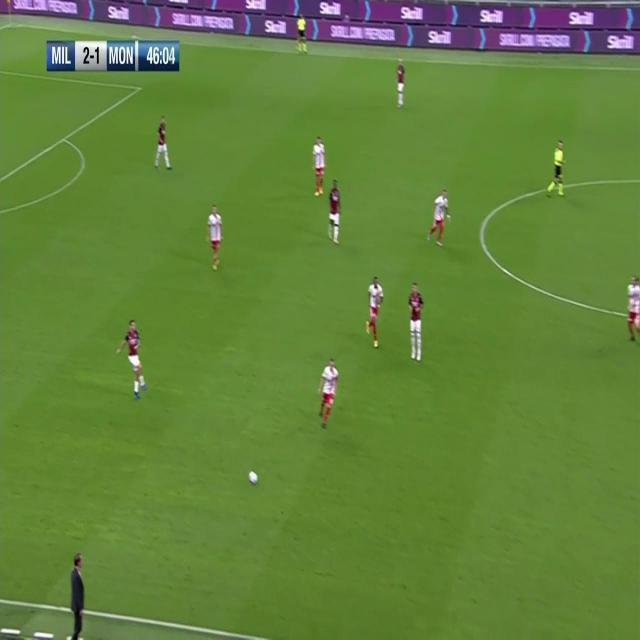ball: (247, 468, 259, 486)
player: (116, 316, 148, 398), (317, 357, 339, 431), (407, 279, 425, 364), (364, 274, 384, 350), (427, 188, 451, 248), (207, 202, 225, 273), (153, 113, 173, 172), (327, 178, 343, 248), (625, 273, 640, 344), (311, 134, 327, 198), (395, 57, 407, 109)
referee: (546, 138, 567, 200), (295, 9, 308, 56)
